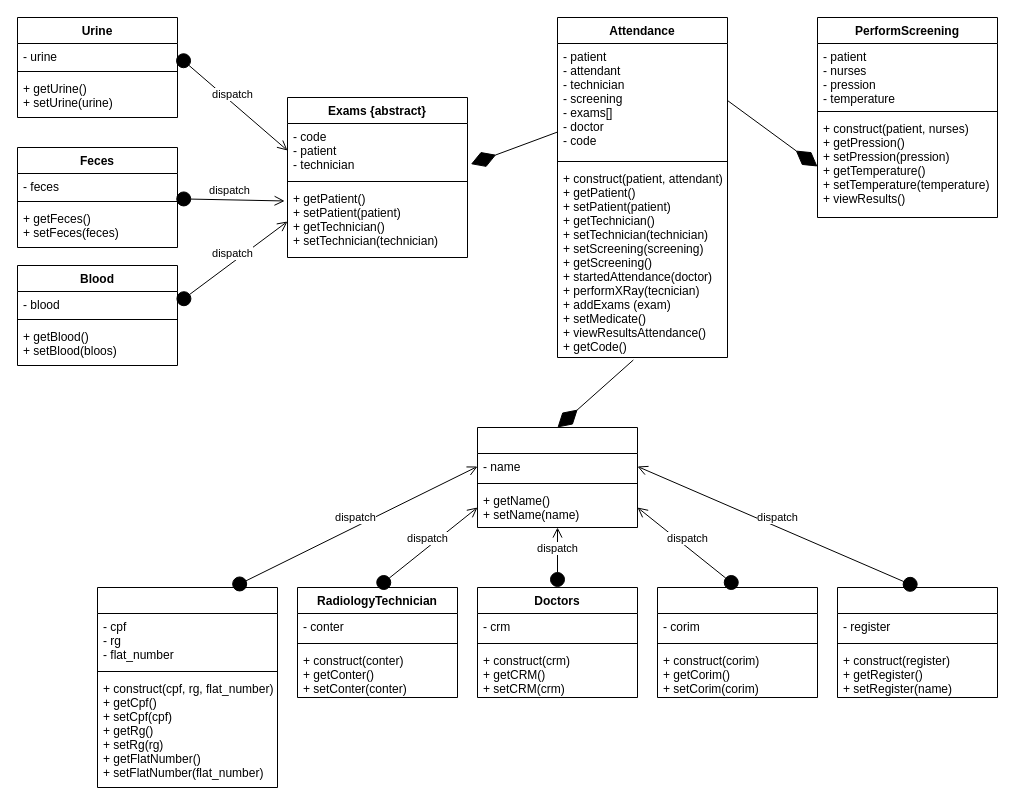
This 1023x808 diagram has some shape labels left out. Here are the shapes that lost their labels. From the top down, the box of each, then its label:
(476, 426, 638, 528): People {abstract}
(656, 586, 818, 698): Nurses
(836, 586, 998, 698): Attendants
(96, 586, 278, 788): Patient
